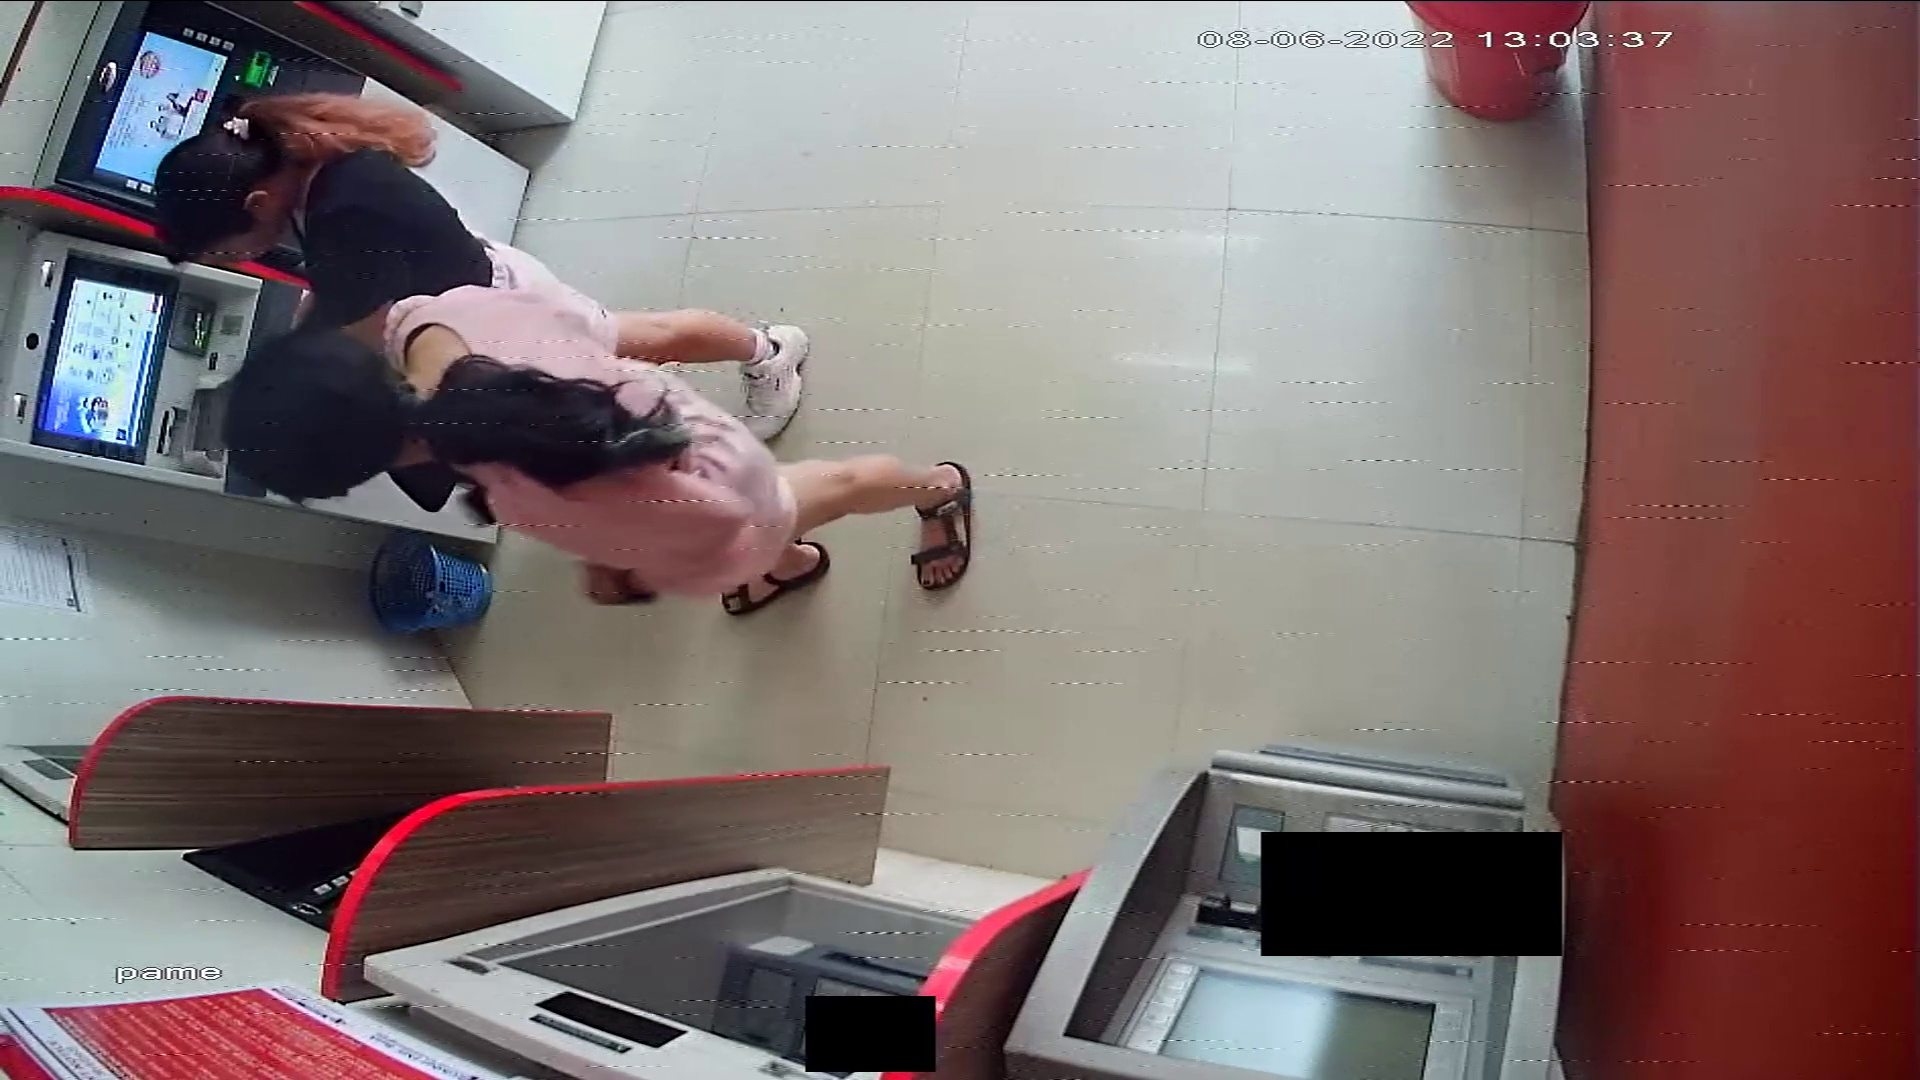person: (217, 289, 979, 620), (148, 91, 833, 438)
